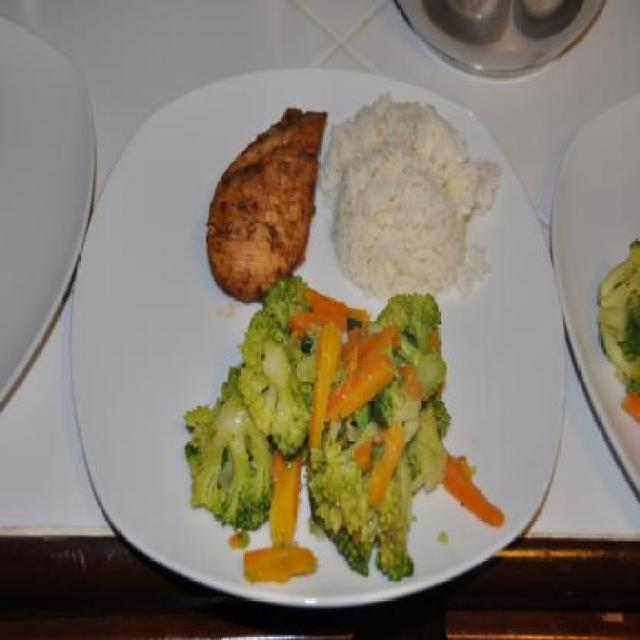Broccoli: (239, 274, 450, 584), (184, 370, 276, 535), (594, 238, 640, 392)
